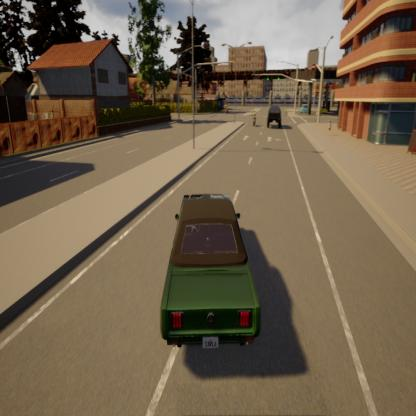Cars: (160, 186, 268, 368)
